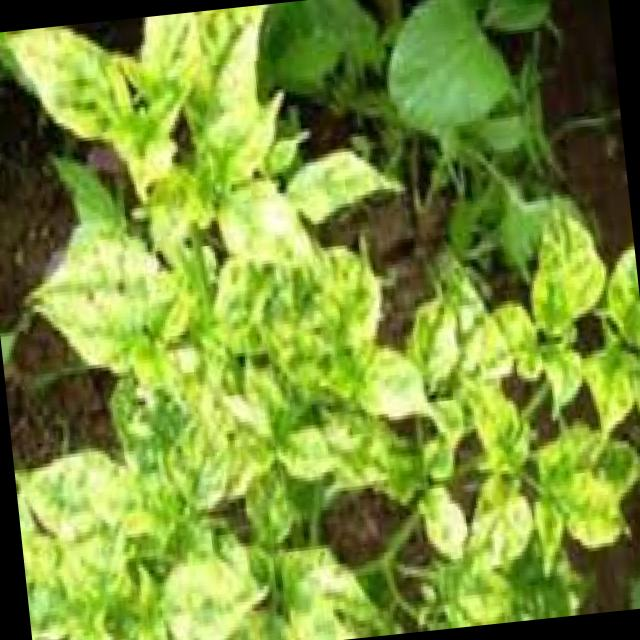Chilli_Leaf_Curl: (0, 0, 640, 640), (0, 300, 126, 470), (375, 0, 520, 143)
